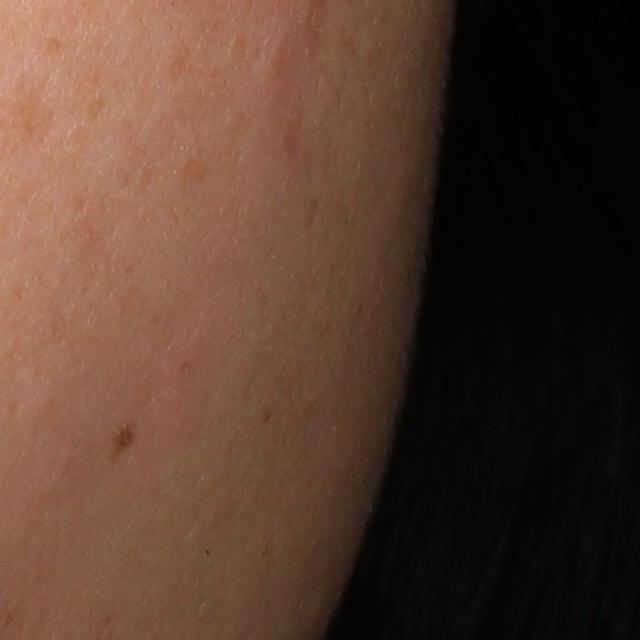nevus: (111, 422, 139, 457)
